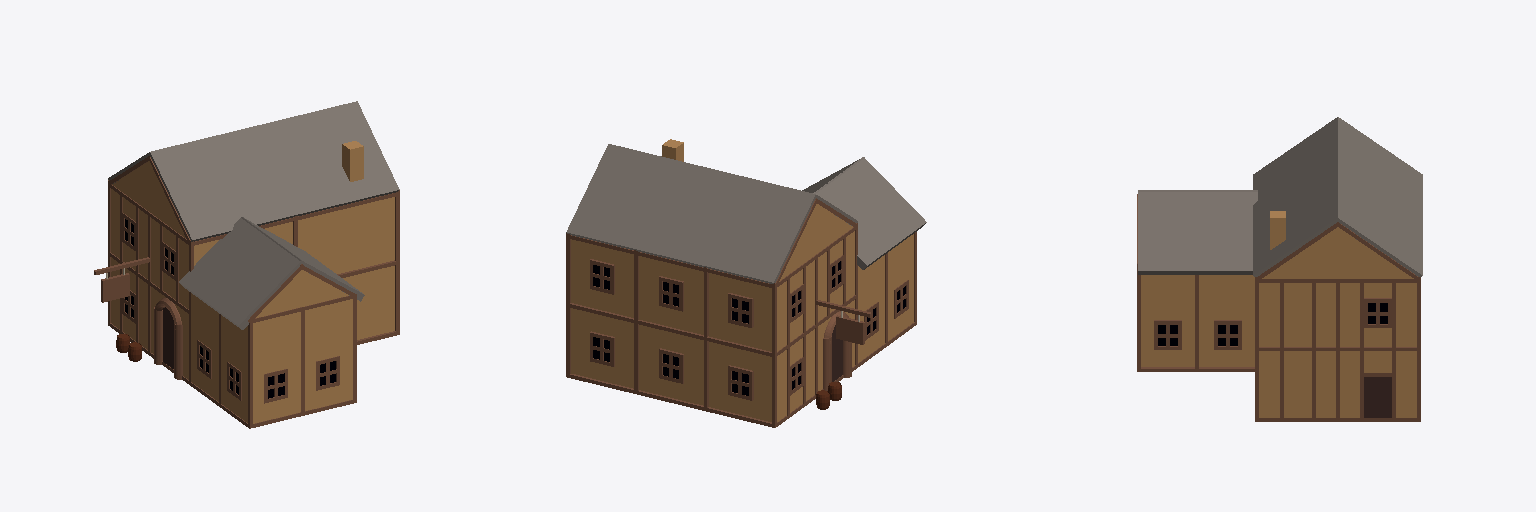
File: timberframedinn_yellow_blue.obj
3 renders of one model, left to right at view 1: azimuth 30°, elevation 25°; view 2: azimuth 150°, elevation 25°; view 3: azimuth 270°, elevation 25°, orthographic.
Parts seen in each view (by area): view 1: Cube.007_Cube.011, Cube.005, Cube.054_Cube.057, Cube.067_Cube.072, Cylinder.001, Cube, Cube.006_Cube.010, Cube.066_Cube.071, Cube.065_Cube.070, Cube.012_Cube.017, Cube.073_Cube.078, Cube.018_Cube.016 (+1 smaller); view 2: Cube.005, Cube.007_Cube.011, Cube.067_Cube.072, Cube.054_Cube.057, Cube.023_Cube.026, Cube.022_Cube.025, Cylinder.001, Cube.021_Cube.024, Cube.020_Cube.023, Cube.015_Cube.020, Cube.008, Cube.019_Cube.022 (+7 smaller); view 3: Cube.005, Cube.007_Cube.011, Cube, Cube.054_Cube.057, Cube.003, Cube.033, Cube.009, Cube.004, Cube.031, Cube.032, Cube.027, Cube.012_Cube.017 (+8 smaller).
Boxes of the visible parts, box(x1,y1,x2,y2) form: Cube.007_Cube.011: box(108, 101, 399, 241); Cube.005: box(111, 161, 394, 379); Cube.054_Cube.057: box(191, 270, 352, 423); Cube.067_Cube.072: box(179, 217, 305, 329); Cylinder.001: box(154, 298, 182, 379); Cube: box(241, 217, 364, 301); Cube.006_Cube.010: box(342, 141, 363, 181); Cube.066_Cube.071: box(264, 369, 287, 403); Cube.065_Cube.070: box(316, 356, 339, 390); Cube.012_Cube.017: box(395, 190, 399, 334); Cube.073_Cube.078: box(101, 273, 129, 302); Cube.018_Cube.016: box(191, 193, 395, 245); Cube.005: box(571, 204, 854, 421); Cube.007_Cube.011: box(566, 144, 857, 283); Cube.067_Cube.072: box(813, 157, 926, 269); Cube.054_Cube.057: box(858, 234, 913, 362); Cube.023_Cube.026: box(567, 374, 771, 426); Cube.022_Cube.025: box(567, 303, 771, 356); Cylinder.001: box(823, 311, 851, 390); Cube.021_Cube.024: box(567, 235, 771, 287); Cube.020_Cube.023: box(728, 365, 753, 400); Cube.015_Cube.020: box(728, 293, 753, 327); Cube.008: box(590, 259, 614, 294); Cube.019_Cube.022: box(659, 348, 683, 383); Cube.005: box(1259, 227, 1416, 417); Cube.007_Cube.011: box(1253, 117, 1422, 276); Cube: box(1138, 192, 1257, 274); Cube.054_Cube.057: box(1141, 275, 1254, 366); Cube.003: box(1364, 377, 1391, 417); Cube.033: box(1364, 298, 1391, 327); Cube.009: box(1154, 320, 1181, 349); Cube.004: box(1214, 320, 1241, 349); Cube.031: box(1258, 418, 1417, 421); Cube.032: box(1258, 279, 1416, 282); Cube.027: box(1417, 277, 1420, 421); Cube.012_Cube.017: box(1255, 277, 1258, 421).
Bounding box in the file's own units: 15.3 × 11.25 × 14.29.